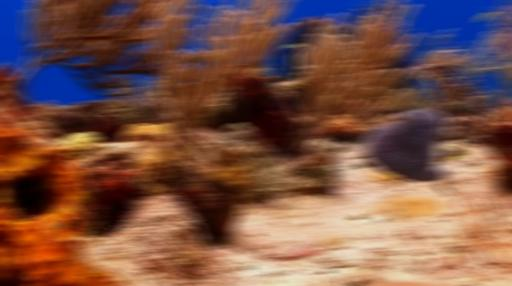Fish: (275, 36, 304, 81), (475, 10, 498, 22), (449, 154, 466, 161)
